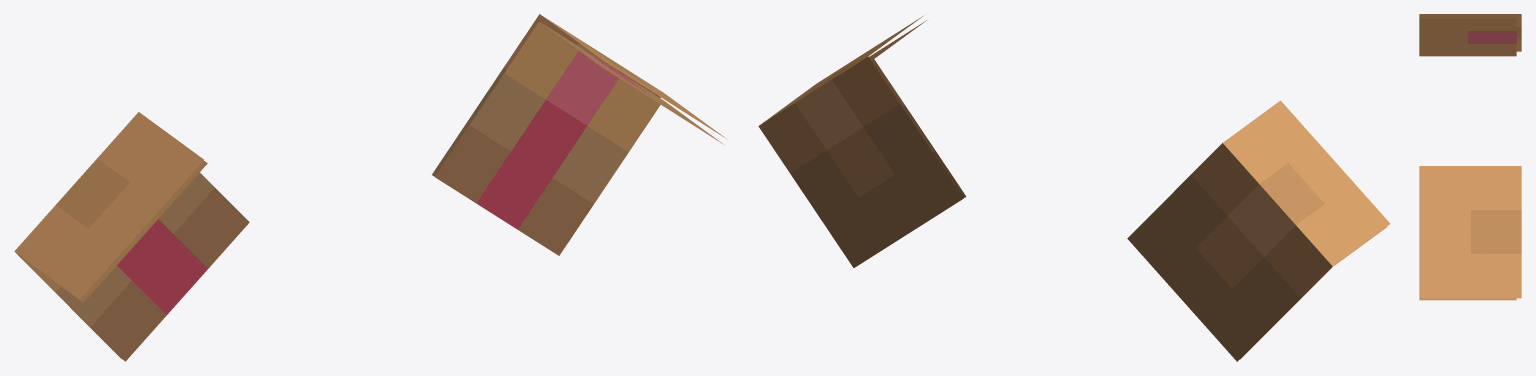
The model's file is sl_dog_ears.glb.
3 views of the same model, side by side, from view 1: azimuth 30°, elevation 25°; view 2: azimuth 150°, elevation 25°; view 3: azimuth 270°, elevation 25° (orthographic). The views are drawn at different scales.
Visible parts, largest first — view 1: bb_dog_ears; view 2: bb_dog_ears; view 3: bb_dog_ears.
Part boxes in pixels (x1,y1,x2,y2): bb_dog_ears: (14, 14, 727, 361); bb_dog_ears: (758, 16, 1390, 361); bb_dog_ears: (1419, 14, 1521, 300).
Bounding box in the file's own units: 0.7499 × 0.2689 × 0.1313.
Materials: 1 (1 with a texture image).
